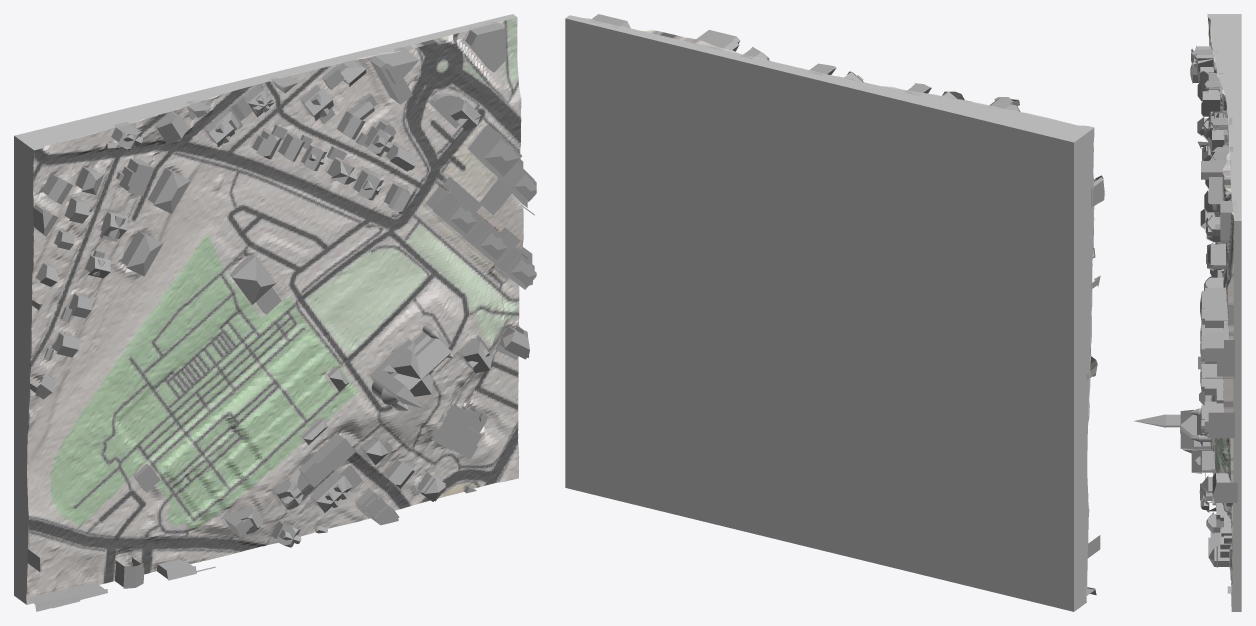
File: 3c282ce0-09c5-4836-abc1-cd9e088d3cdd.obj
The picture shows the model from 3 angles, left to right: view 1: azimuth 30°, elevation 25°; view 2: azimuth 150°, elevation 25°; view 3: azimuth 270°, elevation 25°; orthographic projection. The views are drawn at different scales.
Parts seen in each view (by area): view 1: terrain, buildings; view 2: terrain, buildings; view 3: buildings, terrain.
Boxes of the visible parts, left/top/right/bottom form: terrain: left=14, top=14, right=523, bottom=604; buildings: left=26, top=21, right=536, bottom=611; terrain: left=565, top=15, right=1094, bottom=611; buildings: left=590, top=14, right=1104, bottom=595; buildings: left=1134, top=45, right=1237, bottom=593; terrain: left=1207, top=14, right=1241, bottom=611.
Size of the model in its own units: 336 by 296 by 74.38.
